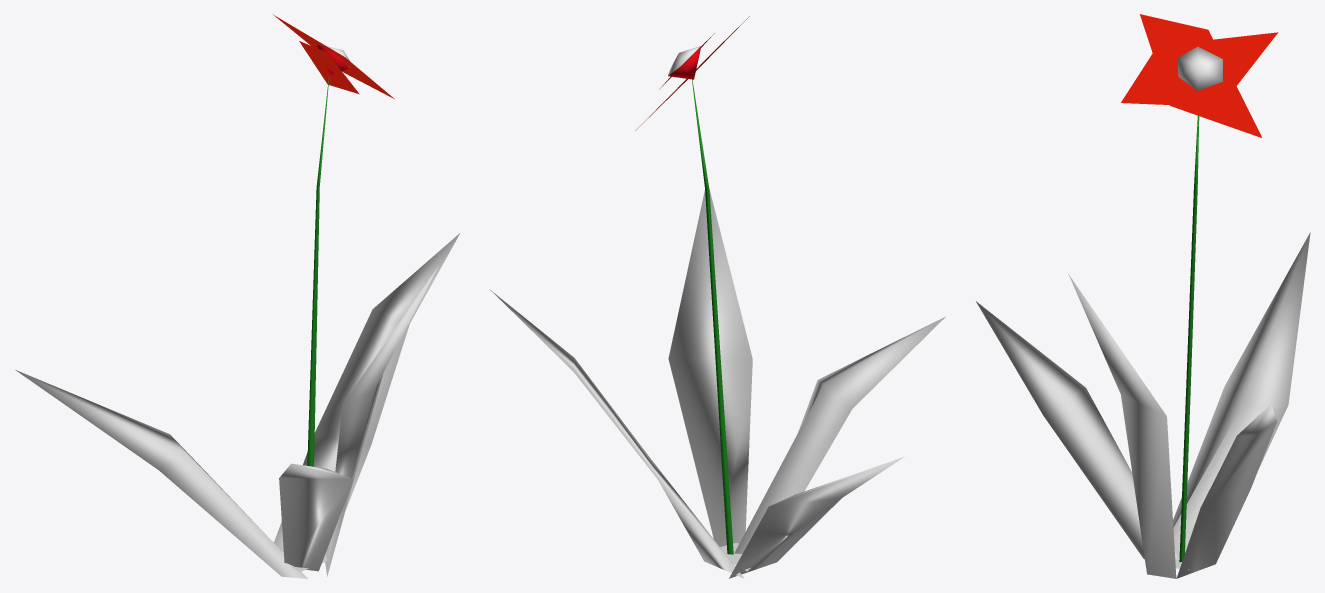
File: poppyPlant.glb
3 views of the same model, side by side, from view 1: azimuth 30°, elevation 25°; view 2: azimuth 150°, elevation 25°; view 3: azimuth 270°, elevation 25° (orthographic). The views are drawn at different scales.
Parts seen in each view (by area): view 1: Icosphere; view 2: Icosphere; view 3: Icosphere.
Boxes of the visible parts, box(x1,y1,x2,y2) form: Icosphere: box(15, 14, 460, 578); Icosphere: box(490, 16, 945, 578); Icosphere: box(976, 14, 1310, 578).
Size of the model in its own units: 0.9767 by 1.15 by 0.6261.
